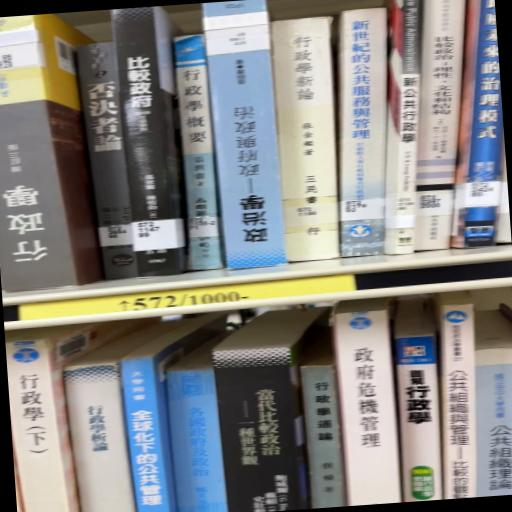reverse: (1, 15, 102, 292), (205, 2, 287, 270)
